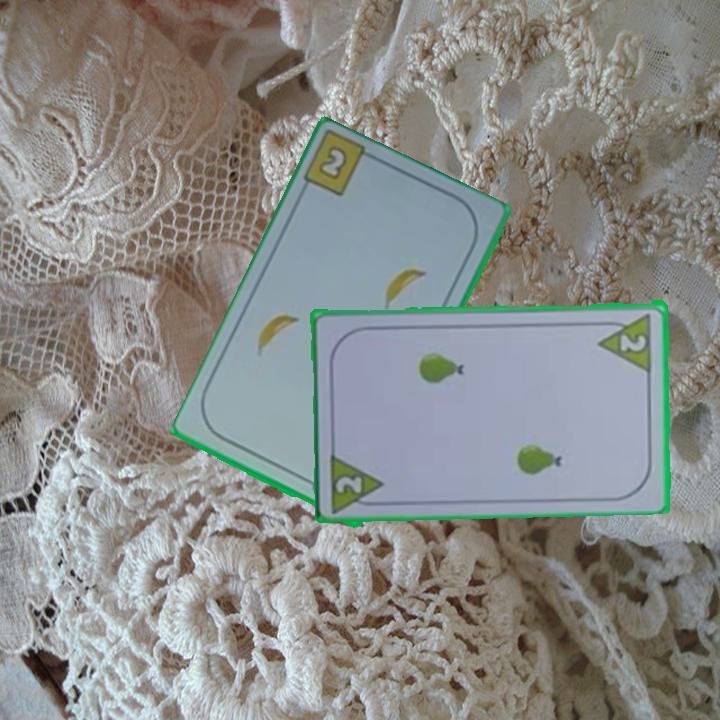2b: (300, 131, 381, 201)
2p: (326, 448, 388, 513), (595, 309, 655, 373)
